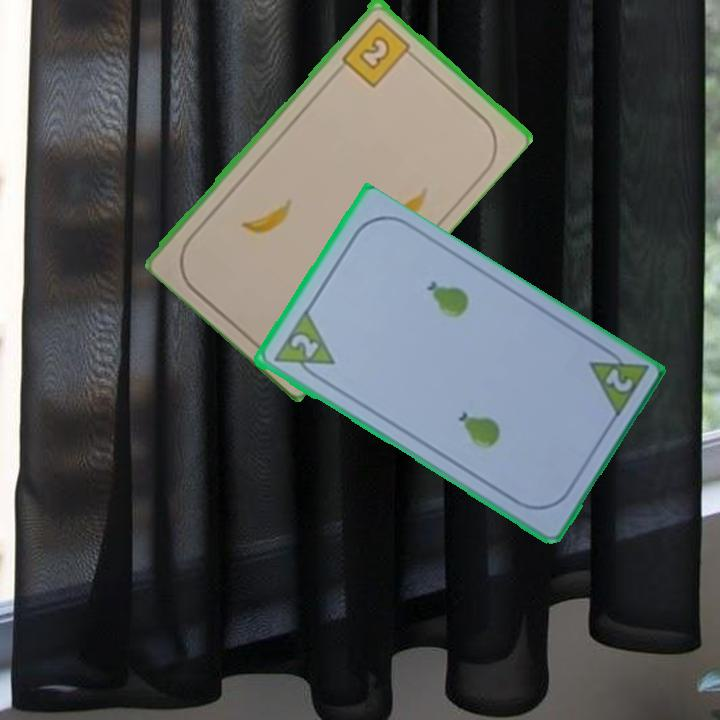2b: (338, 13, 419, 90)
2p: (268, 308, 337, 385), (600, 365, 635, 396)
